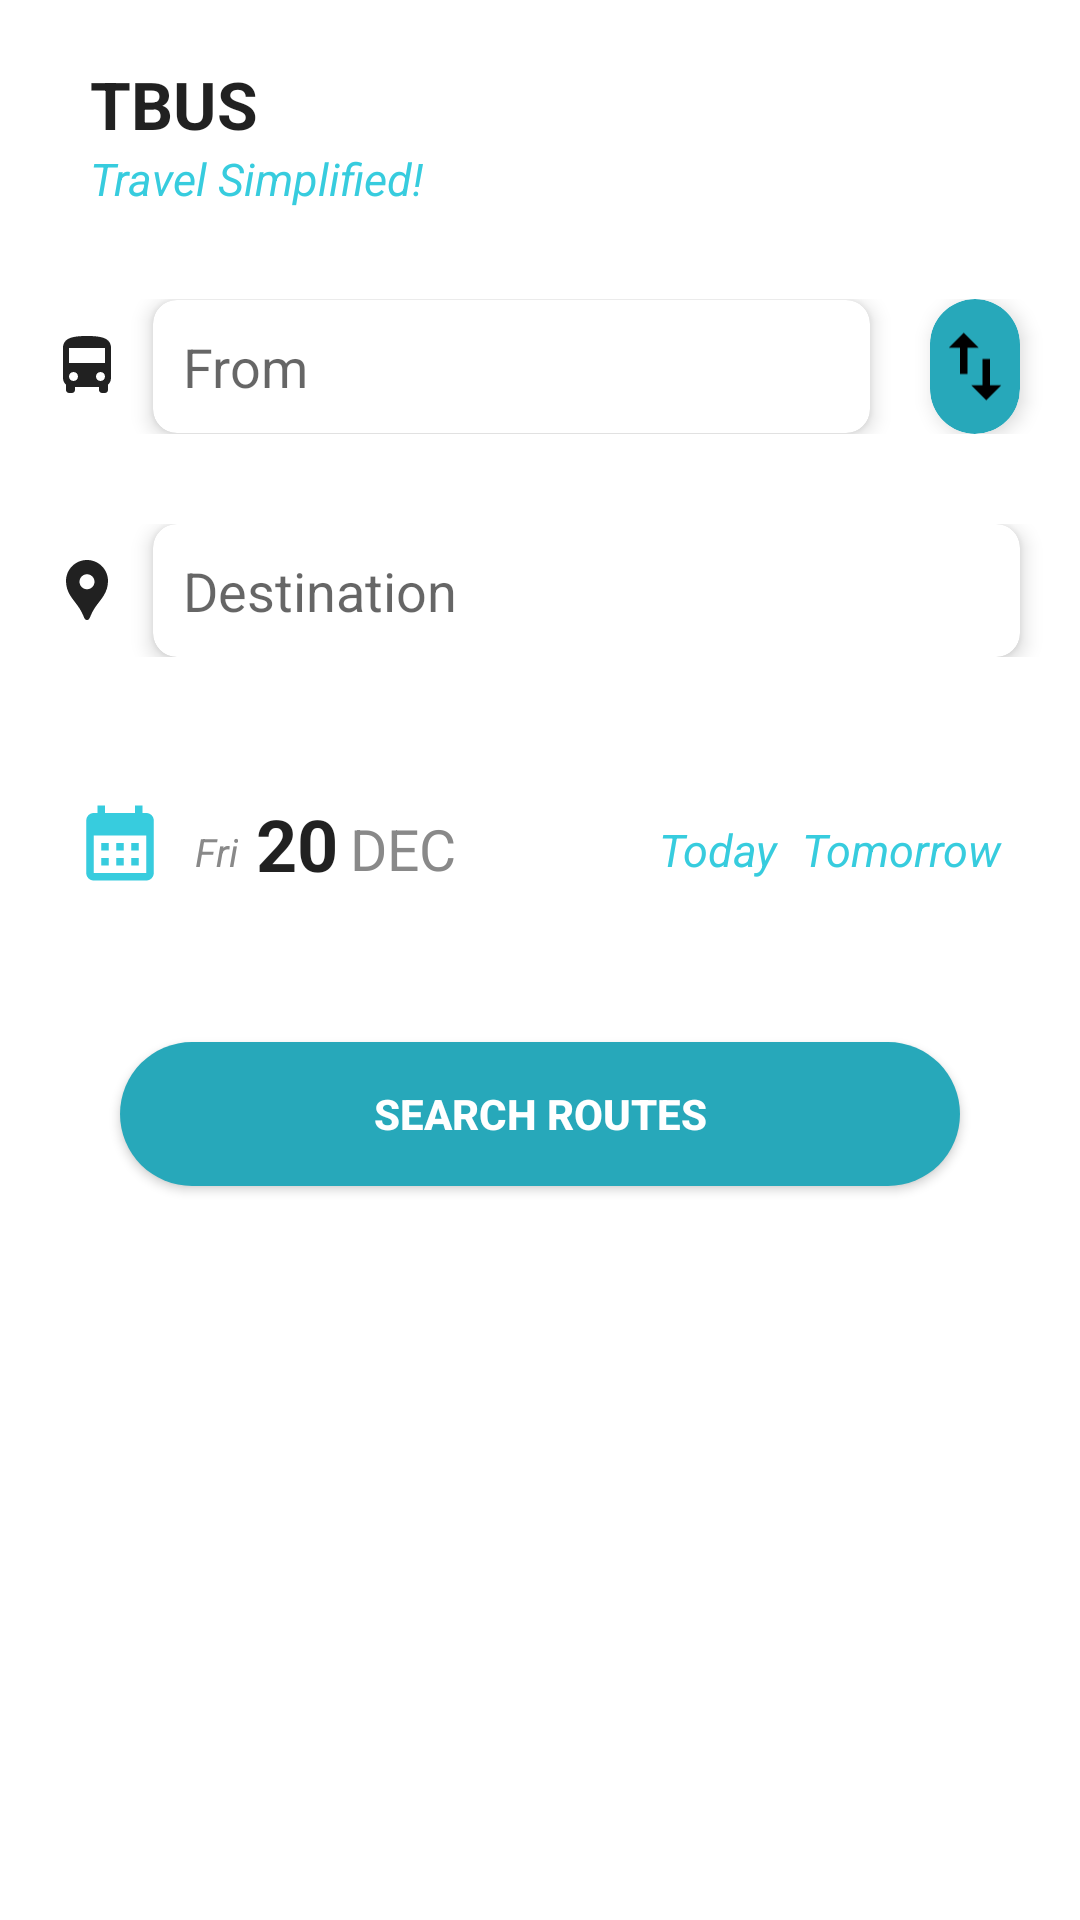

Named icons in this screenshot (1080 × 1920) and their centers, [x,y]:
bus: [87,364]
Calendar Icon: [120,843]
